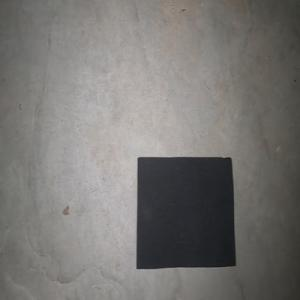PaintChip: (136, 156, 236, 269)
